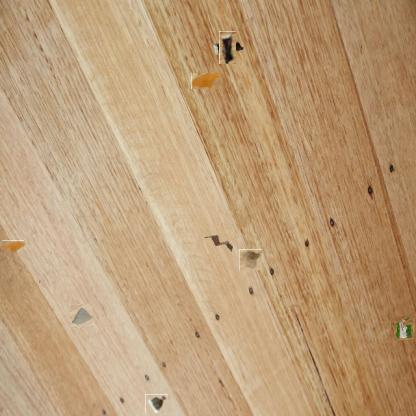dirty: (203, 232, 233, 254), (215, 35, 240, 60), (239, 248, 262, 270), (70, 304, 92, 327), (392, 317, 414, 339), (145, 394, 168, 413)
liquid: (191, 73, 220, 89), (3, 240, 24, 253)
